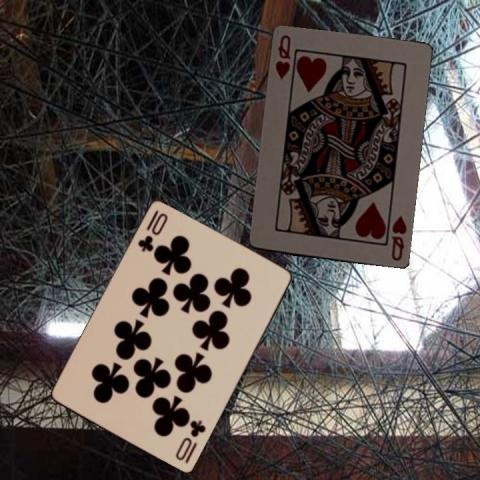10c: (172, 418, 208, 466), (135, 207, 169, 254)
Qh: (272, 32, 293, 82), (388, 213, 408, 262)
